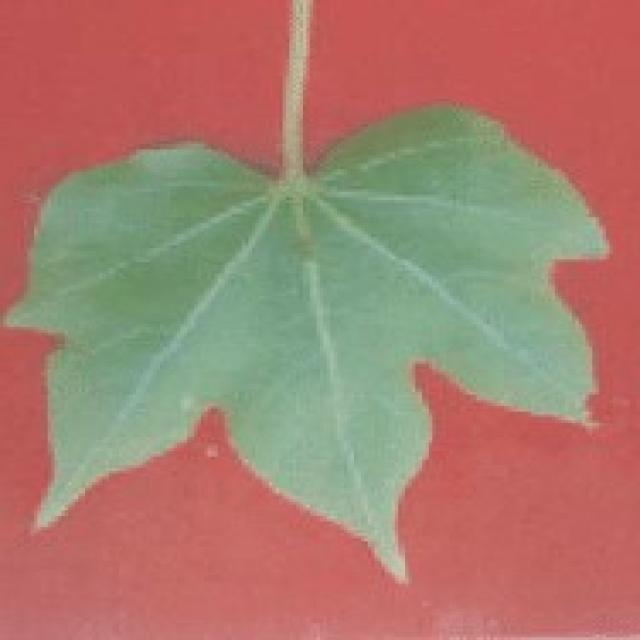Healthy Leaf: (7, 2, 640, 613)
